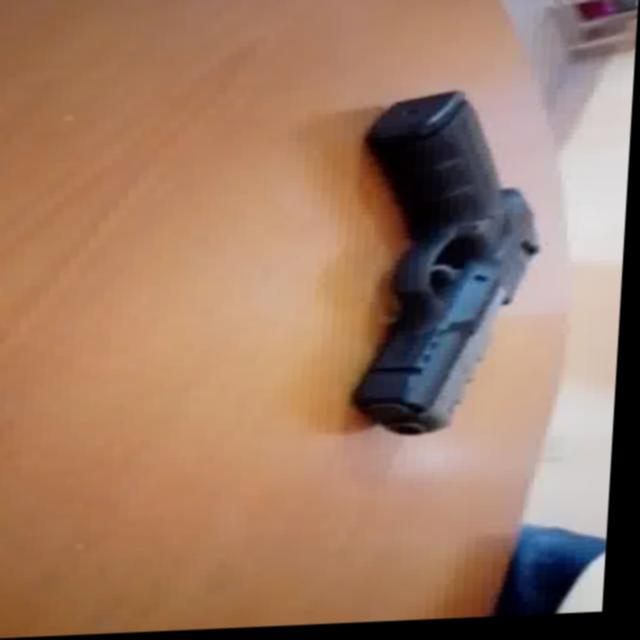weapon: (348, 90, 554, 442)
